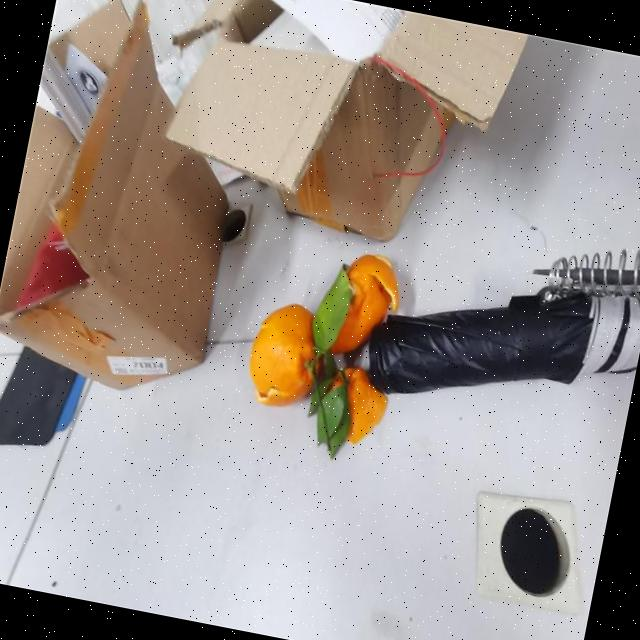orange-peel: (240, 296, 330, 414)
